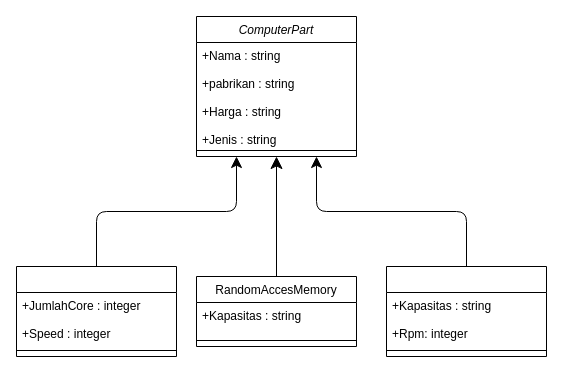
This 563x373 diagram has some shape labels left out. The box of each missing label's shape, as (x1, y1, x2, y2) in pixels:
HardDiskSATA: (386, 266, 546, 356)
Processor: (16, 266, 176, 356)
